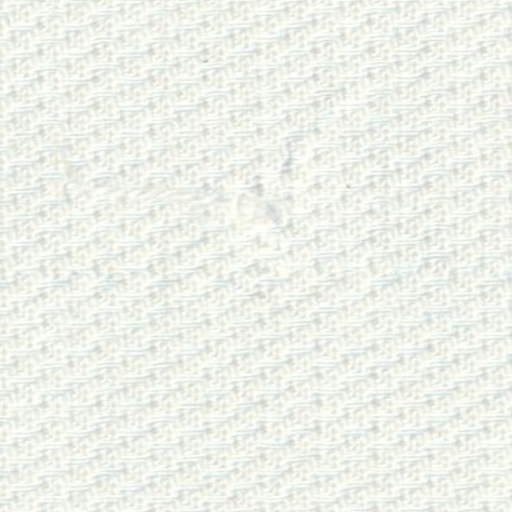DuanSha: (128, 136, 300, 252)
